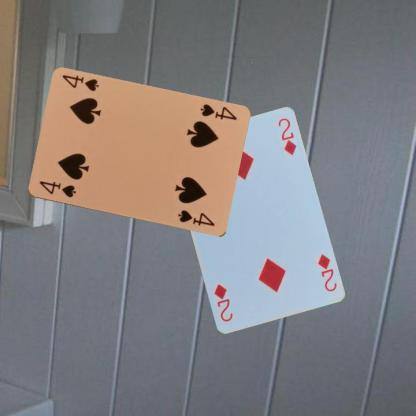2d: (314, 251, 338, 293)
4s: (36, 178, 77, 199), (197, 101, 238, 122)
